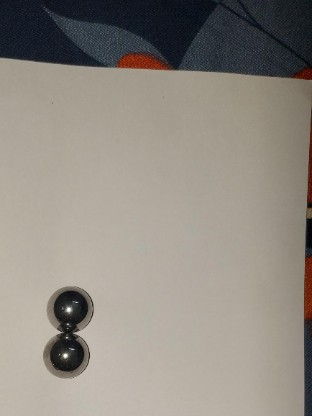ironball: (39, 283, 100, 337), (41, 328, 97, 382)
